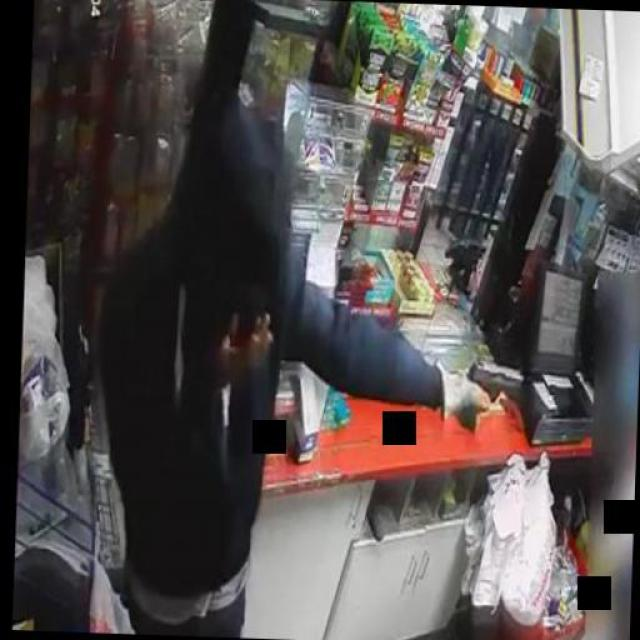gun: (462, 355, 524, 426)
